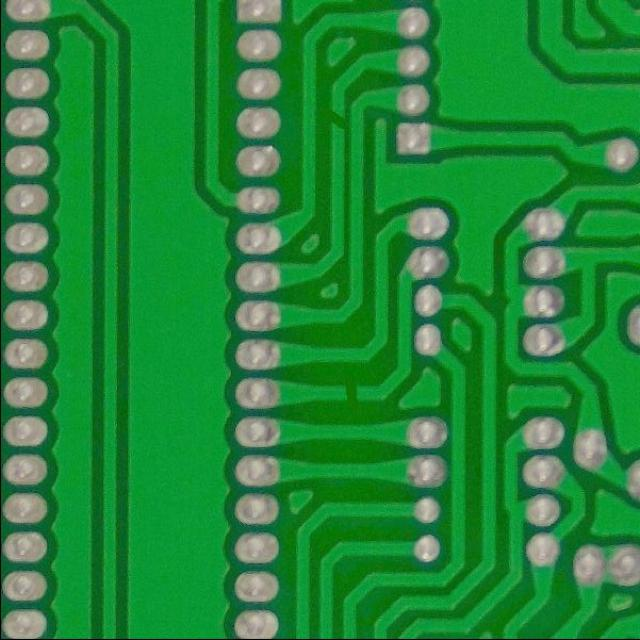open_circuit: (337, 380, 361, 409), (323, 108, 346, 133)
